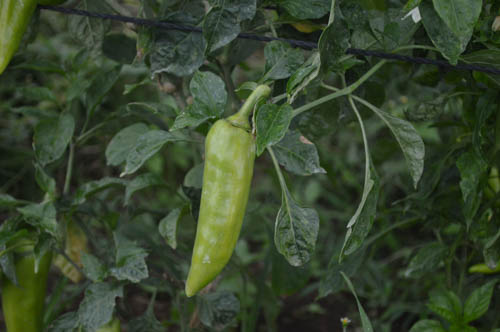ChiliPepper: (183, 116, 258, 301), (1, 226, 55, 332)
